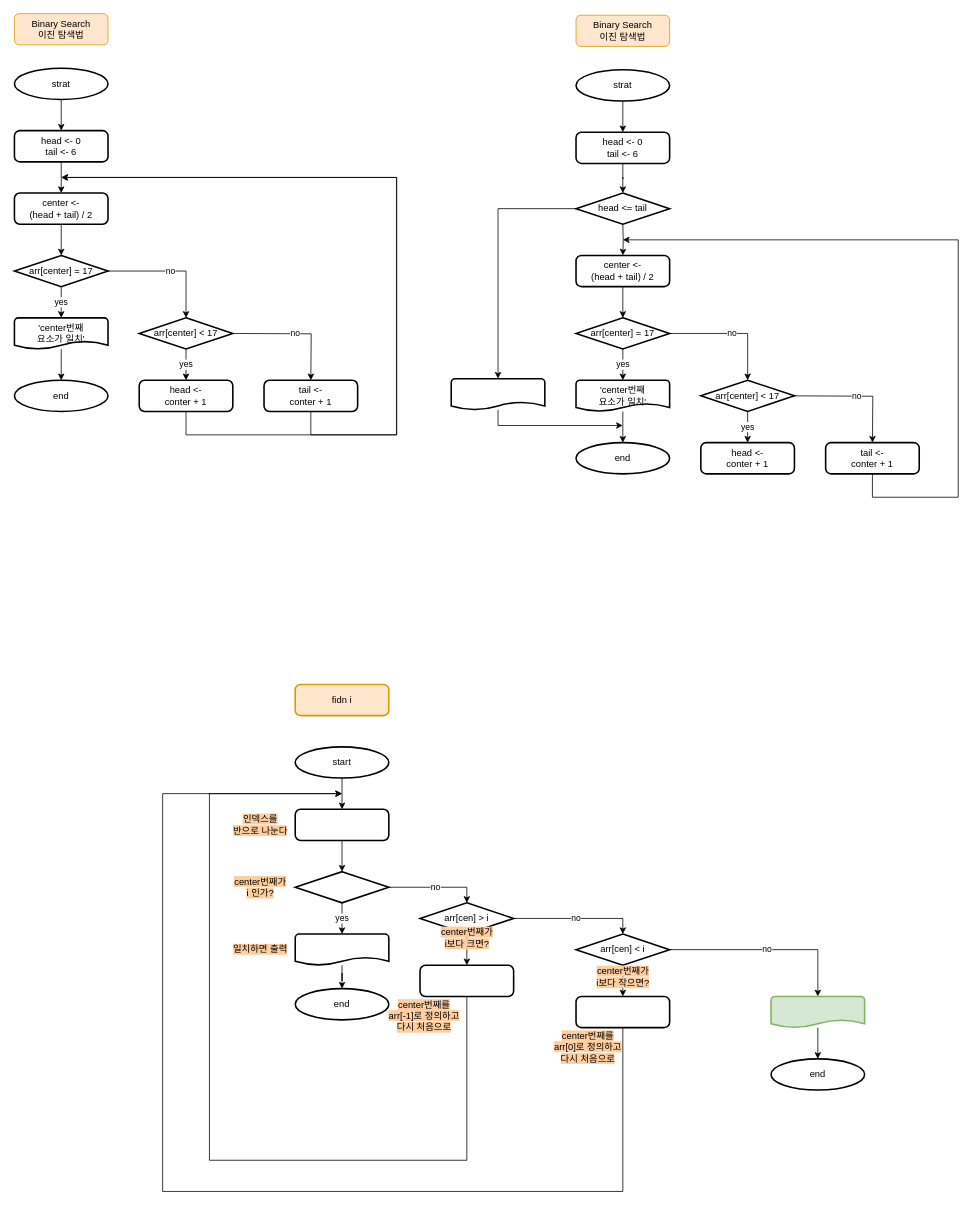
Image size: 978x1211. Some labels were removed from this diagram. Here are the shapes that lost their labels. From the top down, the box of each, then its label:
(450, 378, 545, 410): '찾지 못했습니다.'
(294, 808, 389, 841): arr[(-1)/2] = arr[cen]
(294, 870, 389, 903): arr[cen] = i
(294, 933, 389, 966): 'cen번째 요소가 일치'
(419, 964, 514, 997): arr[cen] = arr[-1]
(575, 995, 670, 1028): arr[cen] = arr[0]
(770, 995, 865, 1028): 찾지못했습니다.
